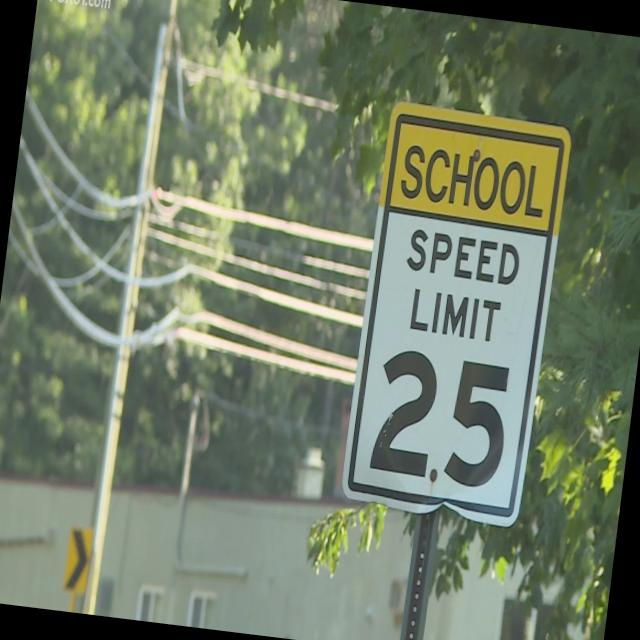Speed Limit Signs: (344, 201, 564, 534)
